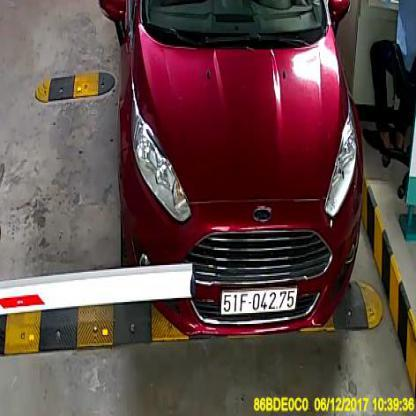biensoxe: (220, 288, 296, 314)
